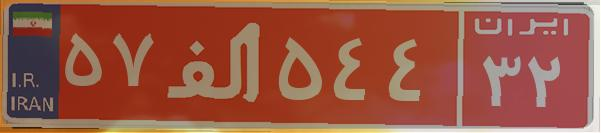2: (525, 38, 570, 115)
3: (475, 38, 525, 113)
4: (385, 28, 445, 110), (330, 28, 385, 110)
5: (273, 28, 330, 110), (57, 26, 110, 107)
7: (110, 28, 158, 105)
الف: (158, 15, 273, 115)
